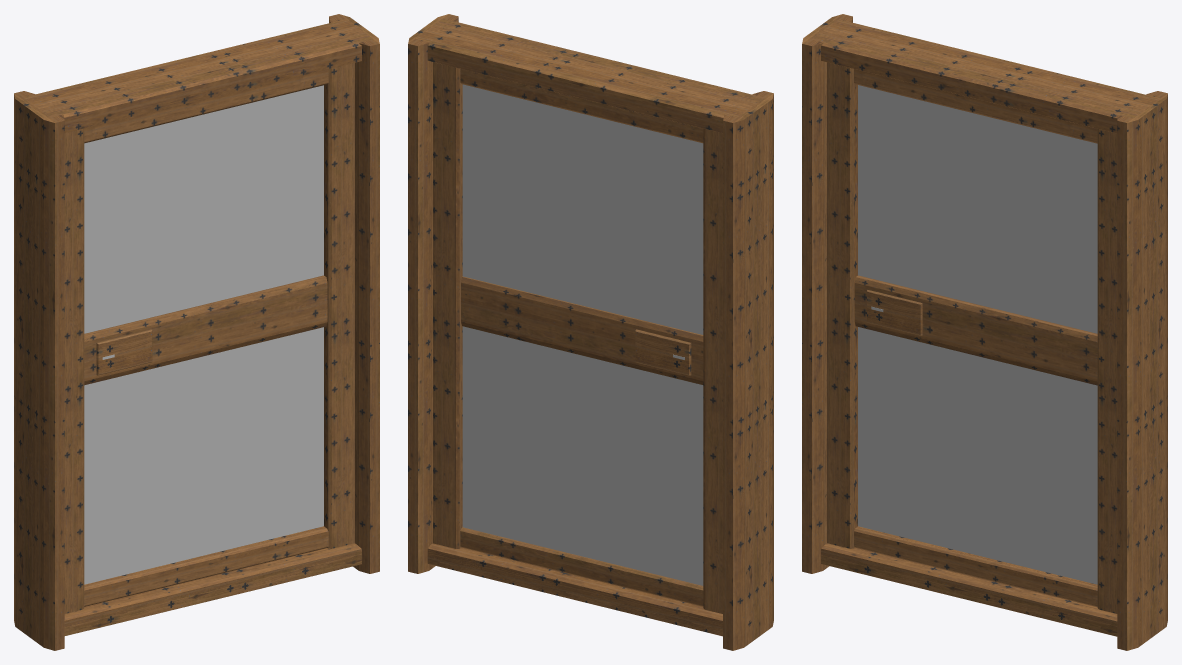
File: Door_Garden.fbx
The picture shows the model from 3 angles, left to right: view 1: azimuth 30°, elevation 25°; view 2: azimuth 150°, elevation 25°; view 3: azimuth 330°, elevation 25°; orthographic projection.
Visible parts, largest first — view 1: Door_Garden; view 2: Door_Garden; view 3: Door_Garden.
Boxes of the visible parts, left/top/right/bottom form: Door_Garden: left=14, top=14, right=379, bottom=650; Door_Garden: left=408, top=14, right=773, bottom=650; Door_Garden: left=802, top=14, right=1167, bottom=650.
Size of the model in its own units: 196 by 296 by 41.4.
